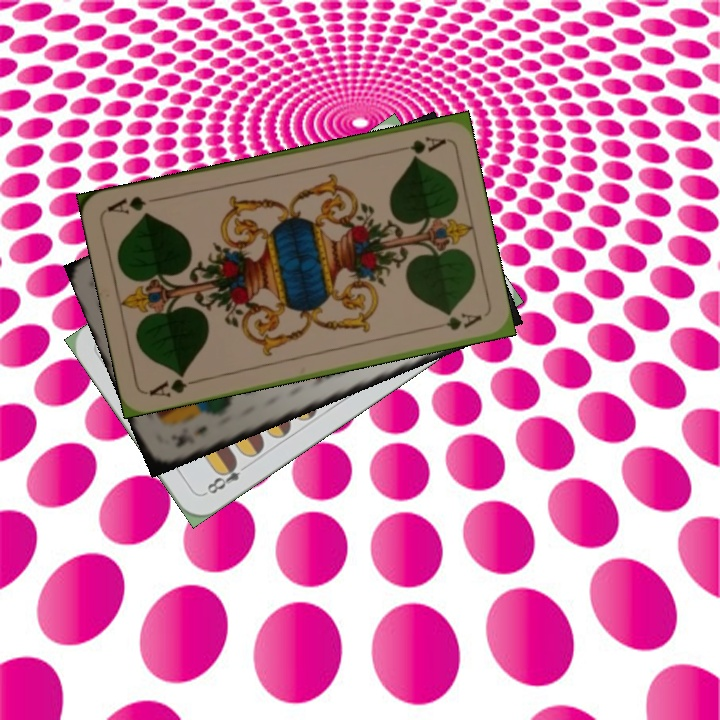E8: (200, 456, 252, 498)
EK: (171, 422, 210, 450)
GA: (145, 369, 203, 400), (389, 132, 448, 157)
